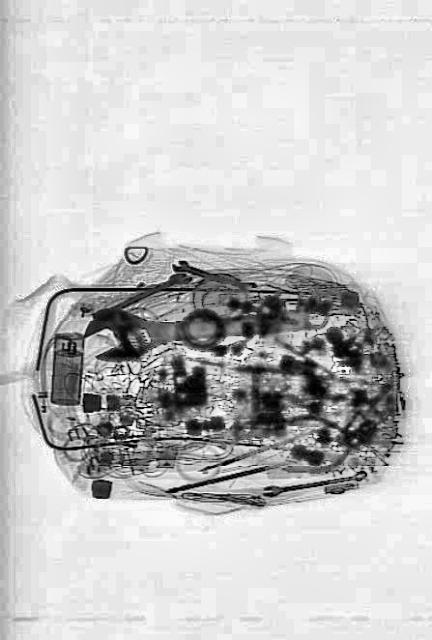Wrench: (80, 284, 330, 364), (262, 466, 368, 496), (170, 255, 254, 292)
